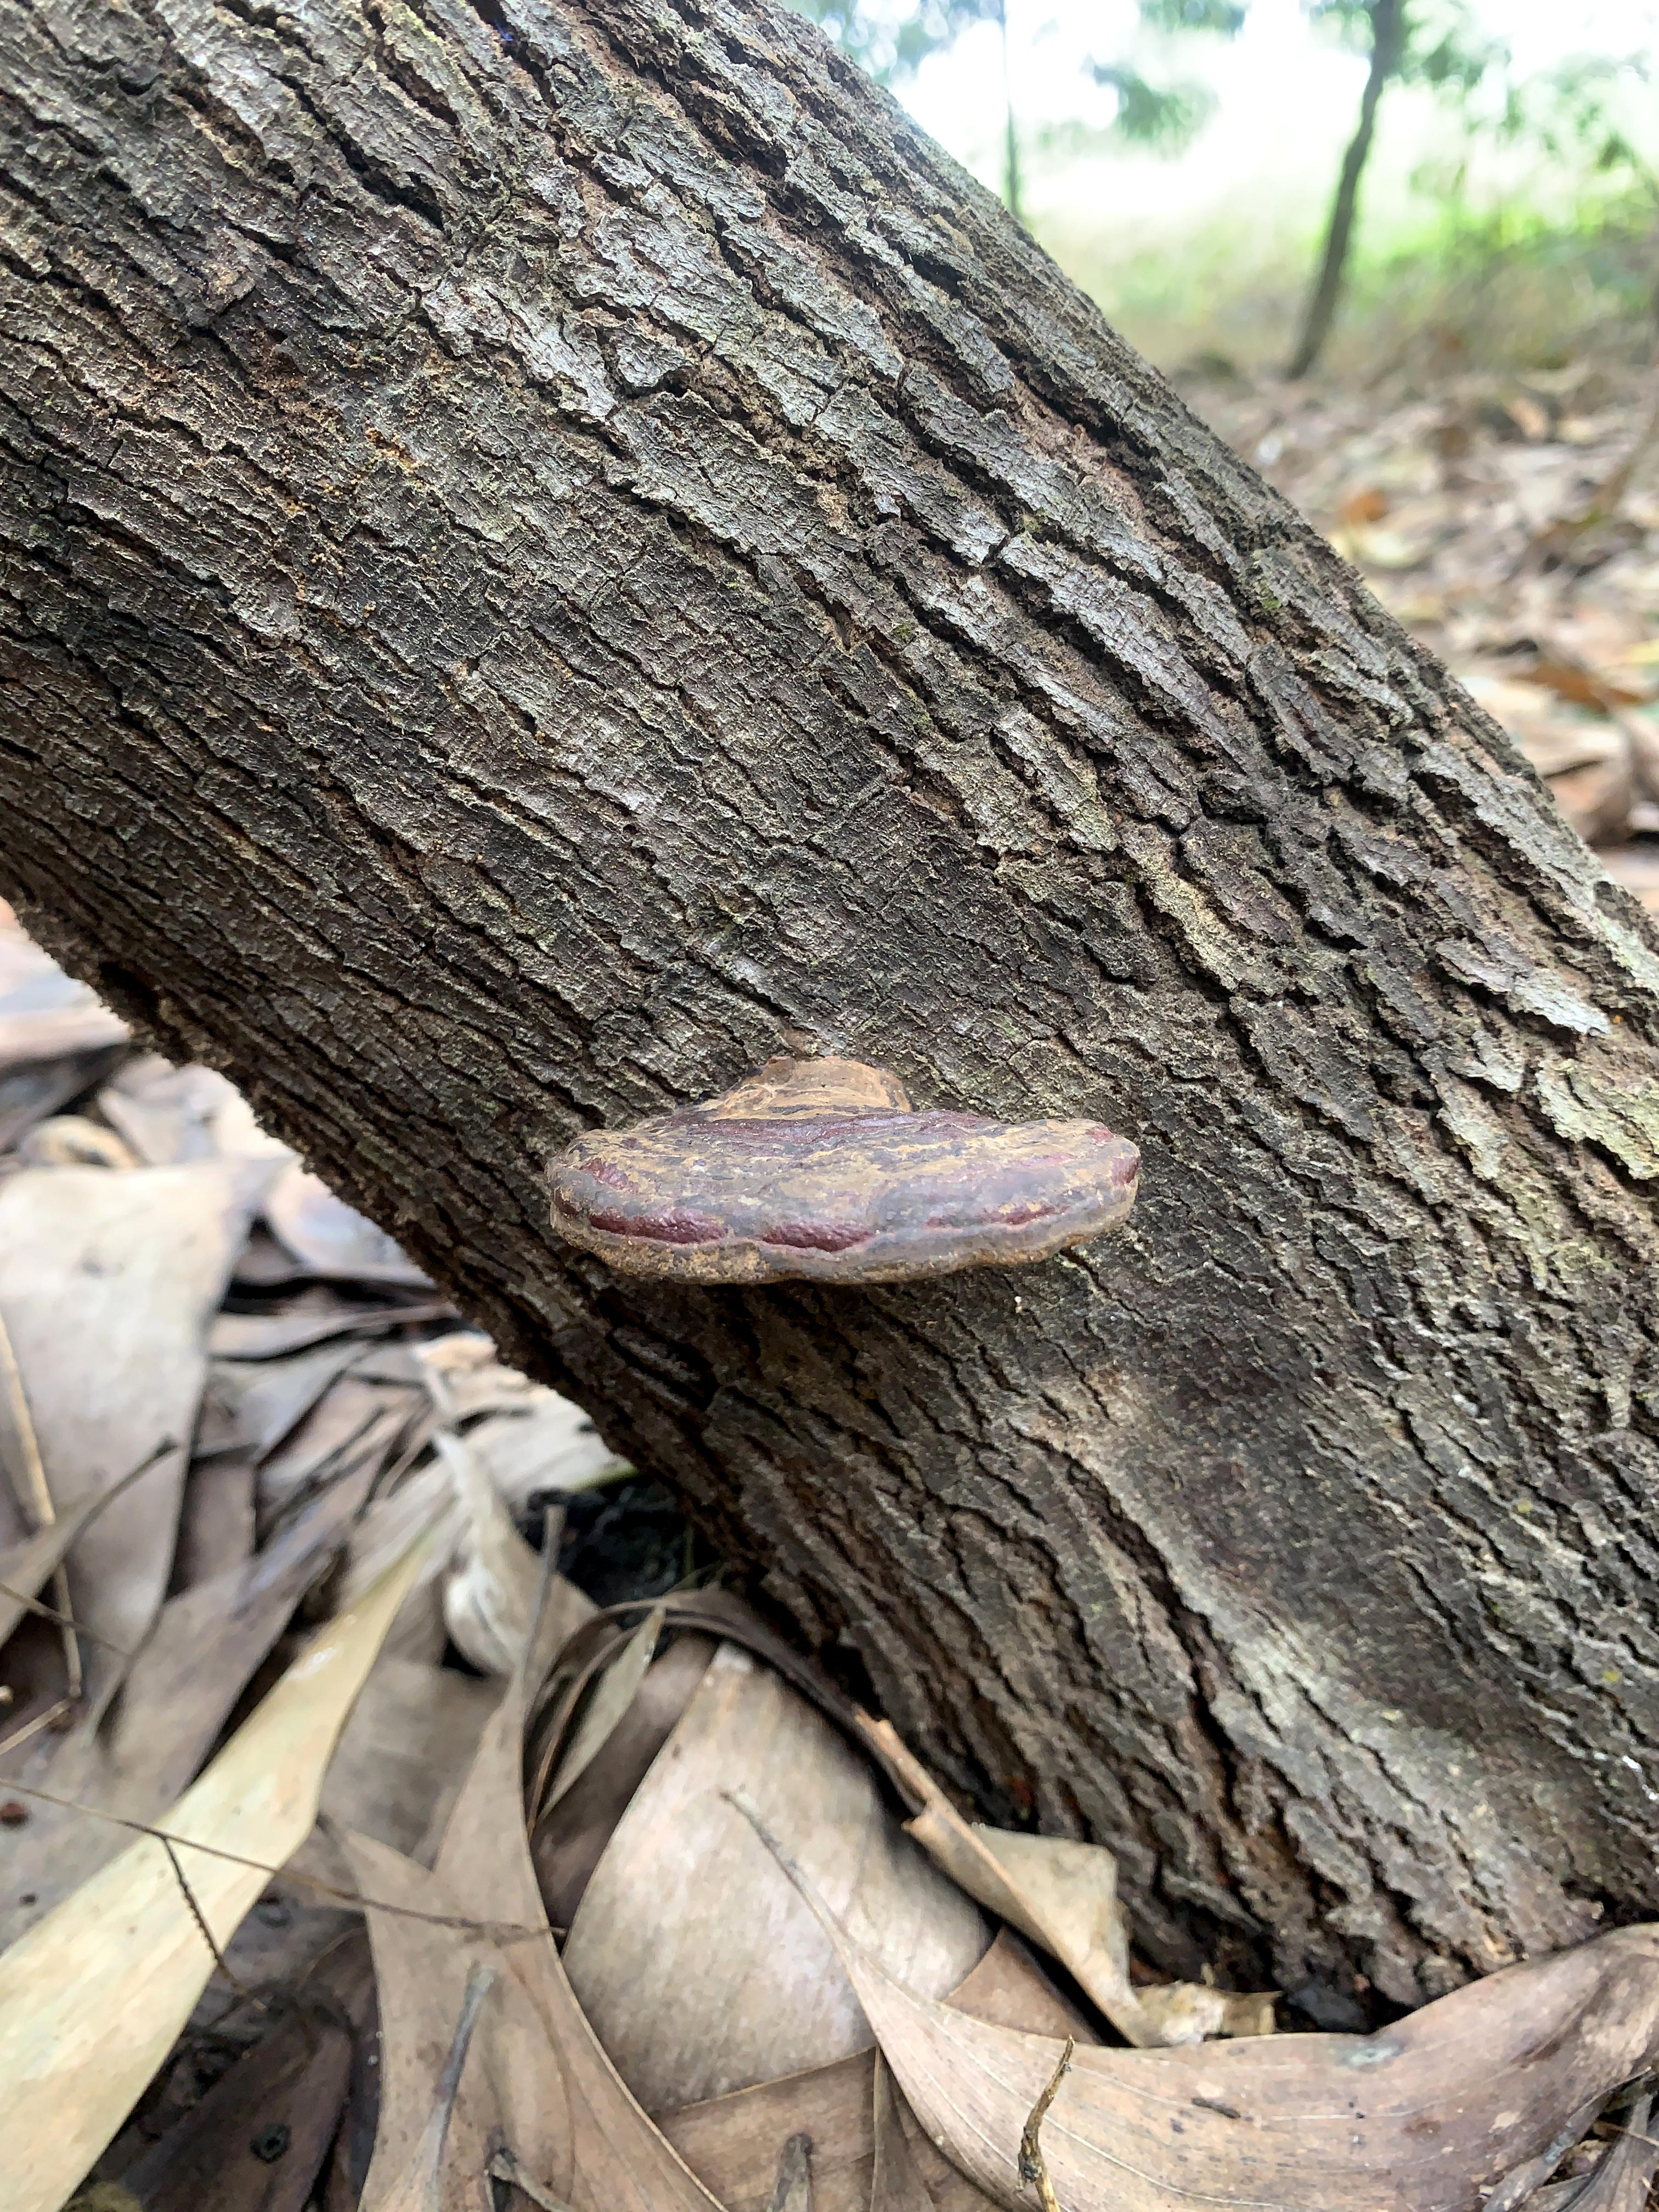Ganoderma - Fruit Body: (512, 1038, 1219, 1307)
